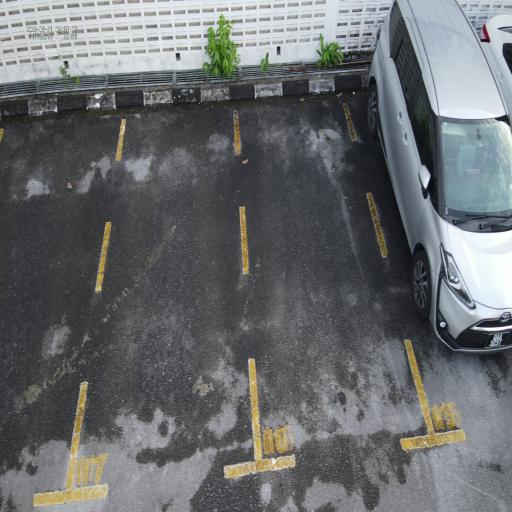Empty: (62, 93, 266, 511), (226, 95, 448, 477)
